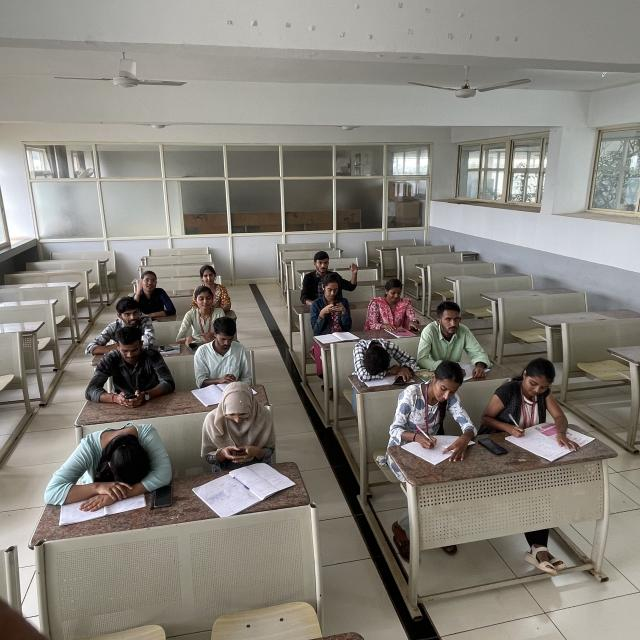Hand Rising: (304, 250, 365, 306)
Sleeping: (44, 416, 179, 509), (344, 332, 418, 380)
Using Phone: (194, 383, 282, 466), (89, 325, 178, 407), (310, 273, 357, 335)
Writing: (480, 351, 576, 444), (386, 362, 475, 461), (184, 314, 260, 395)
